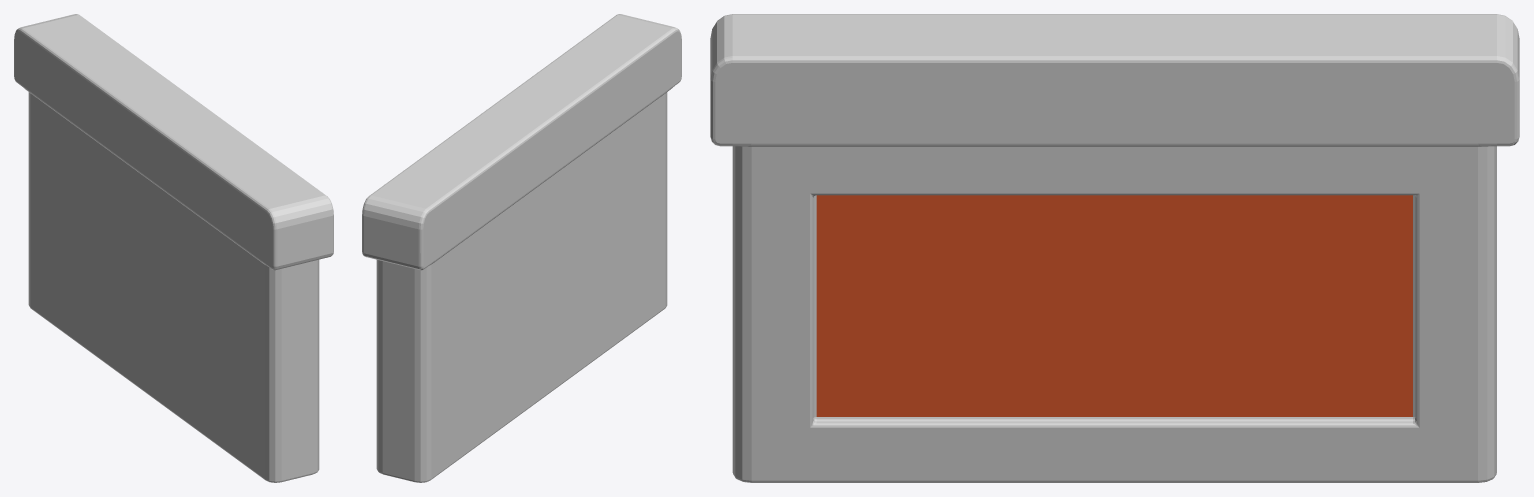
File: GBA-SP-Game.glb
3 renders of one model, left to right at view 1: azimuth 30°, elevation 25°; view 2: azimuth 150°, elevation 25°; view 3: azimuth 270°, elevation 25°, orthographic. The views are drawn at different scales.
Parts seen in each view (by area): view 1: Cube.001; view 2: Cube.001; view 3: Cube.001.
Part boxes in pixels (left/top/right/bottom): Cube.001: left=14, top=14, right=333, bottom=482; Cube.001: left=362, top=14, right=681, bottom=482; Cube.001: left=710, top=14, right=1519, bottom=482.
Size of the model in its own units: 0.46 by 2 by 3.42.
